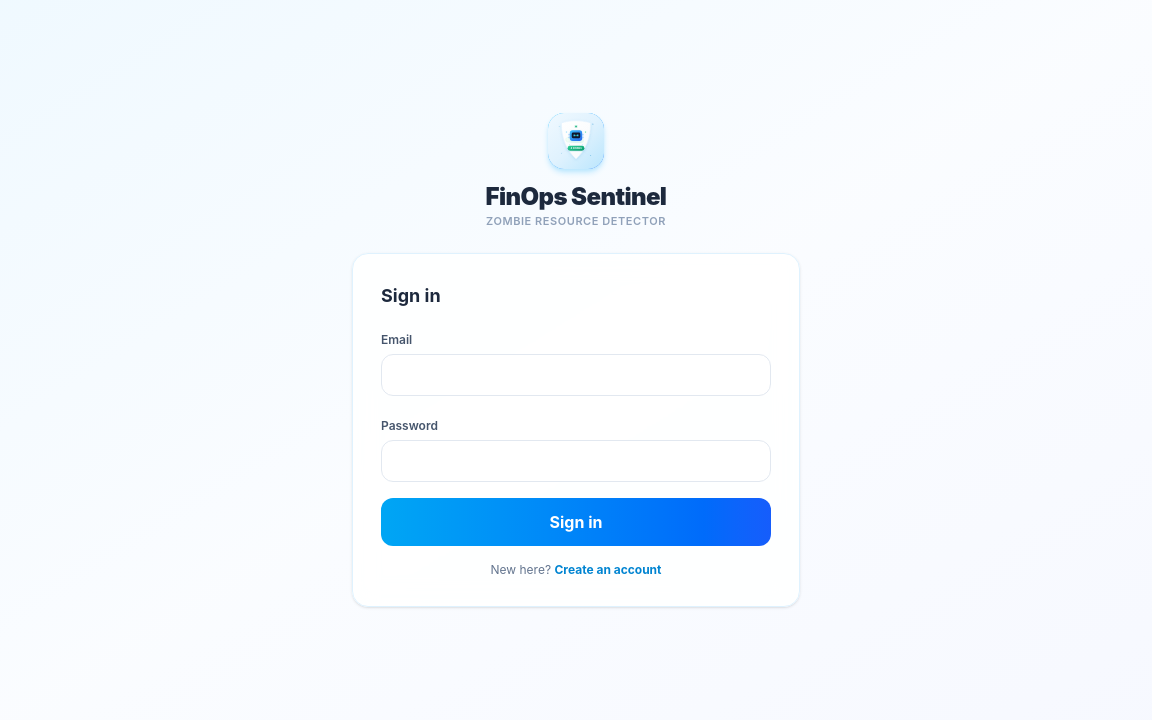
Scenario: authentication › returns to login with a notice when the session expires mid-use
Type "user@example.com" into the field labelled "Email" at (576, 375), box [381,354,771,396]
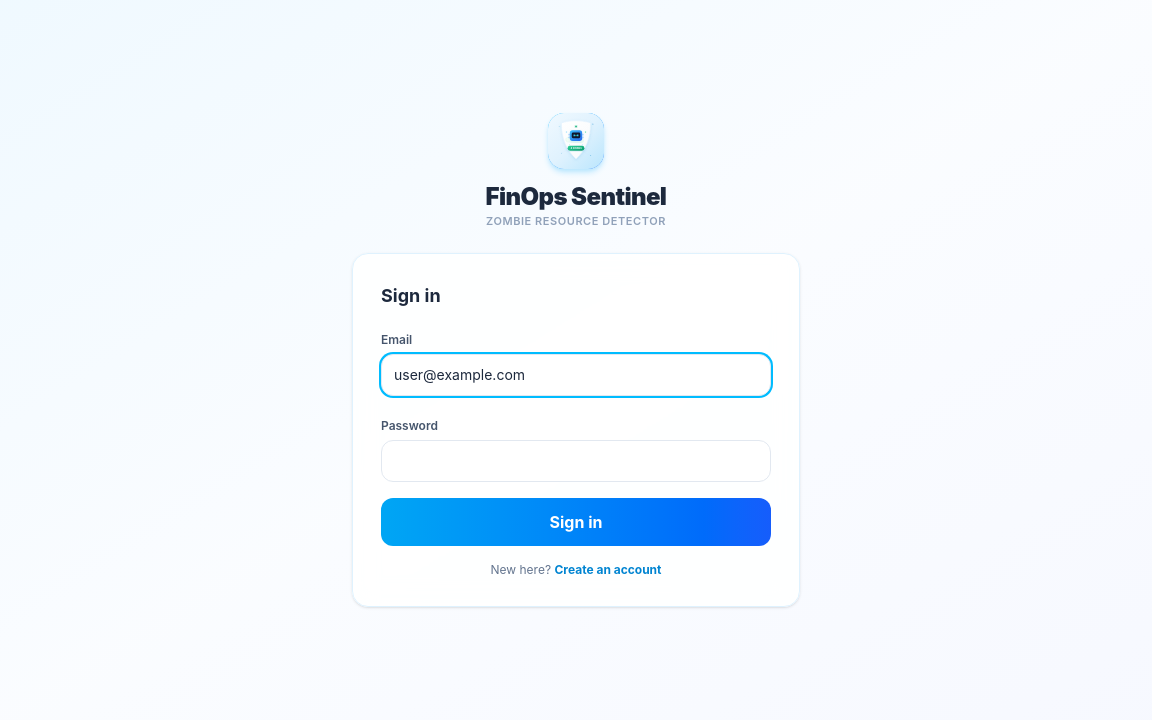
Type "userpass12" into the password field labelled "Password" at (576, 461), box [381,440,771,482]
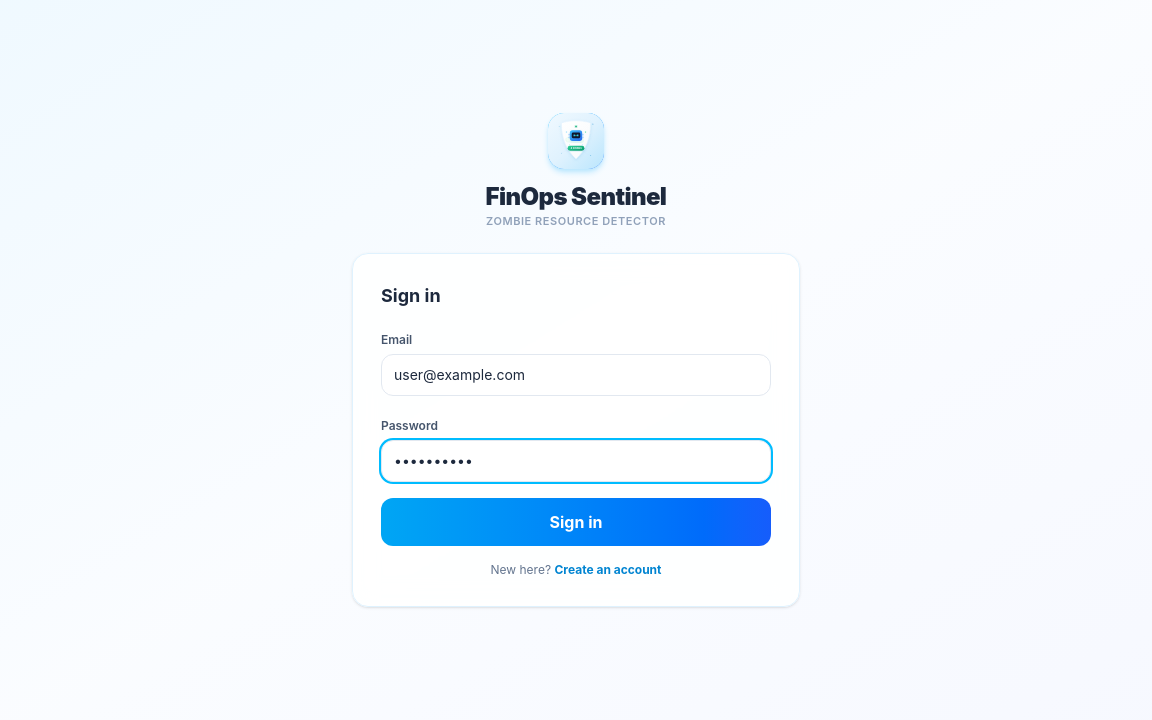
Click the button "Sign in" at (576, 522), box [381,498,771,546]
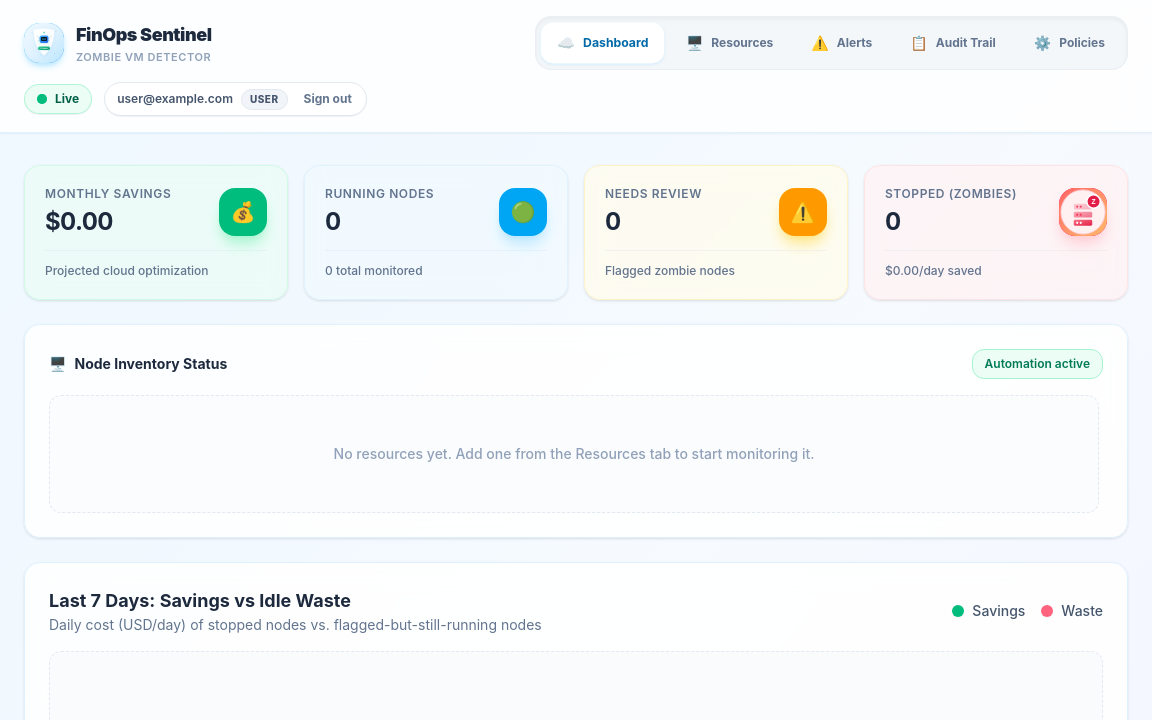
Expected: the text "user@example.com" is shown, [117,91,233,107]
Click the button "🖥️ Resources" at (730, 43), box [670,23,789,63]
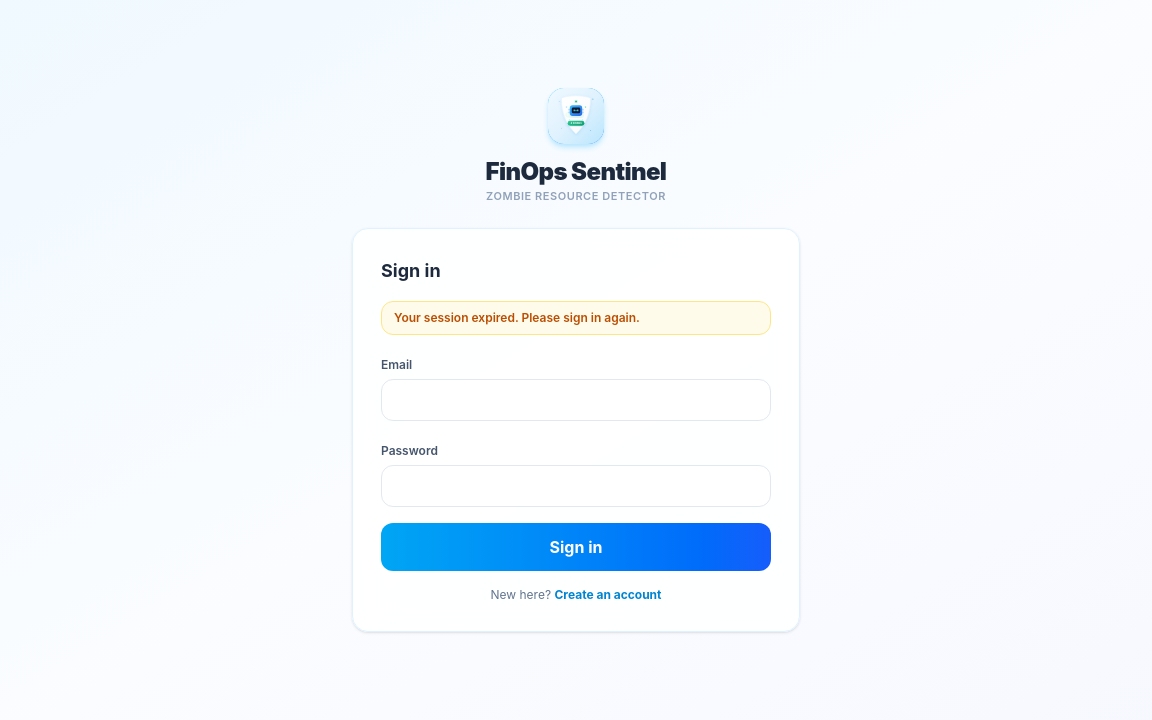
Expected: the text "Your session expired. Please sign in again." is shown, [381,301,771,335]
